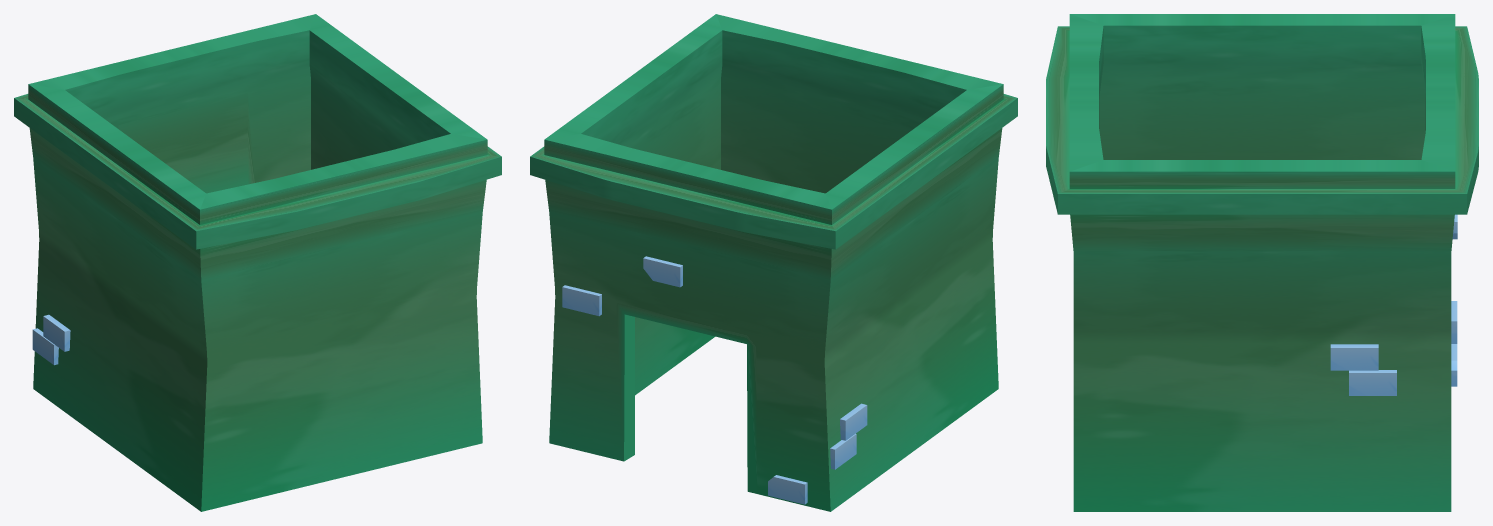
Rendered from B1BBottom_Green.fbx.
3 views of the same model, side by side, from view 1: azimuth 30°, elevation 25°; view 2: azimuth 150°, elevation 25°; view 3: azimuth 270°, elevation 25° (orthographic). The views are drawn at different scales.
Parts seen in each view (by area): view 1: polySurface3; view 2: polySurface3; view 3: polySurface3.
Part boxes in pixels (left/top/right/bottom): polySurface3: left=14, top=14, right=501, bottom=511; polySurface3: left=530, top=14, right=1017, bottom=511; polySurface3: left=1046, top=14, right=1478, bottom=511.
Size of the model in its own units: 345 by 328 by 376.
